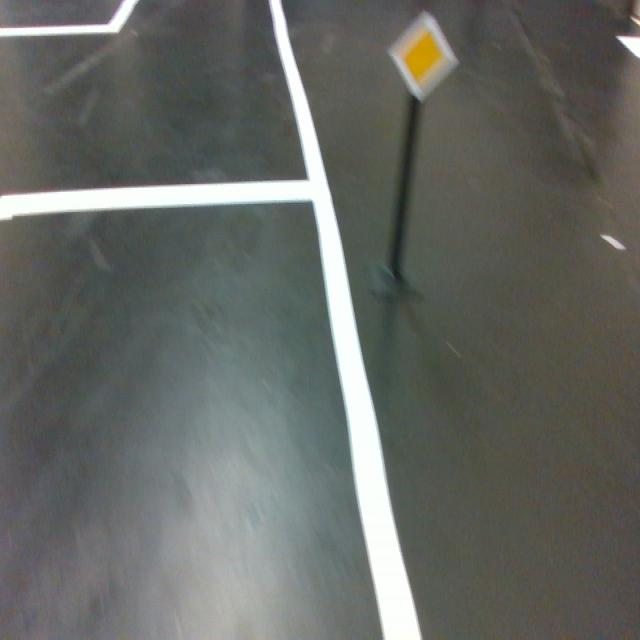priority-sign: (386, 8, 460, 104)
